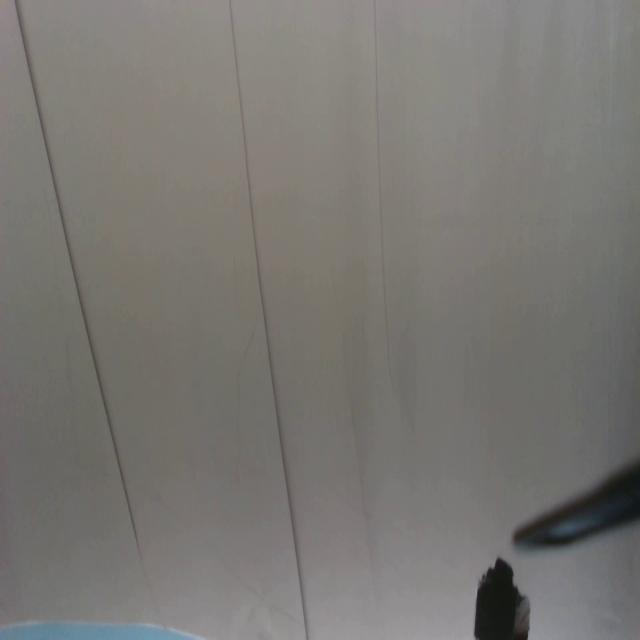crease: (12, 0, 143, 559), (228, 1, 310, 640), (367, 0, 395, 377)
hole: (470, 552, 532, 640)
